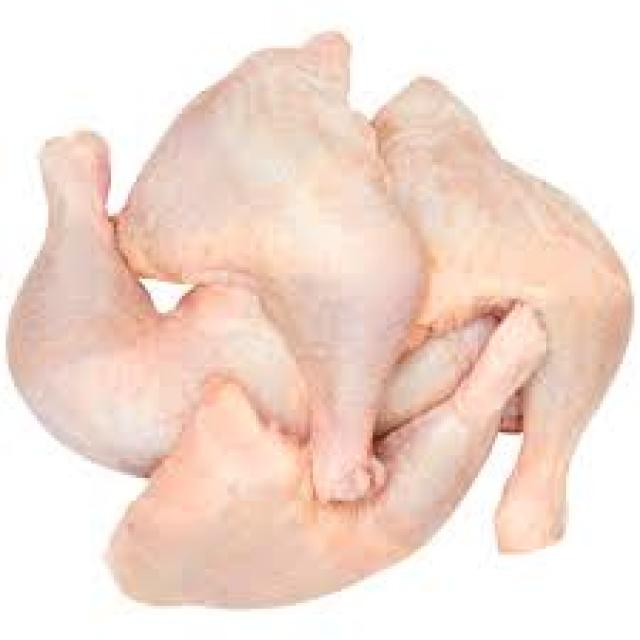chicken: (9, 34, 634, 607), (113, 306, 542, 608), (373, 80, 626, 560), (0, 132, 309, 483)
